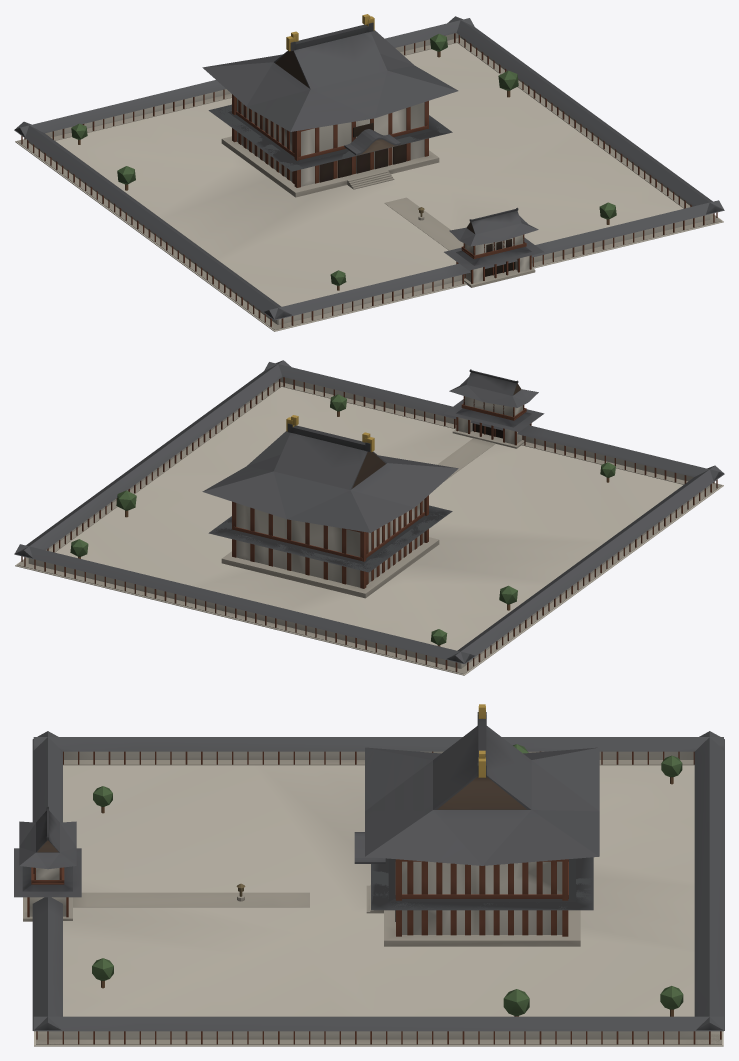
Rendered from daibutsuden-1709.glb.
3 renders of one model, top to bottom at view 1: azimuth 30°, elevation 25°; view 2: azimuth 150°, elevation 25°; view 3: azimuth 270°, elevation 25°, orthographic. The views are drawn at different scales.
Parts seen in each view (by area): view 1: p0_grounds, p1_halls, p2_roofs; view 2: p0_grounds, p1_halls, p2_roofs; view 3: p0_grounds, p1_halls, p2_roofs.
Boxes of the visible parts, <box> form: p0_grounds: <box>15,43,723,331</box>; p1_halls: <box>14,16,724,330</box>; p2_roofs: <box>71,14,616,290</box>; p0_grounds: <box>15,387,723,675</box>; p1_halls: <box>14,360,724,674</box>; p2_roofs: <box>70,369,615,646</box>; p0_grounds: <box>34,765,723,1046</box>; p1_halls: <box>23,731,724,1044</box>; p2_roofs: <box>14,704,683,1016</box>.
Bounding box in the file's own units: 201 × 55.02 × 206.
